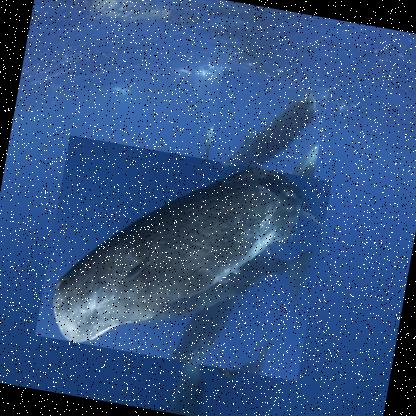sperm_whale: (34, 135, 332, 382), (204, 70, 328, 190)
